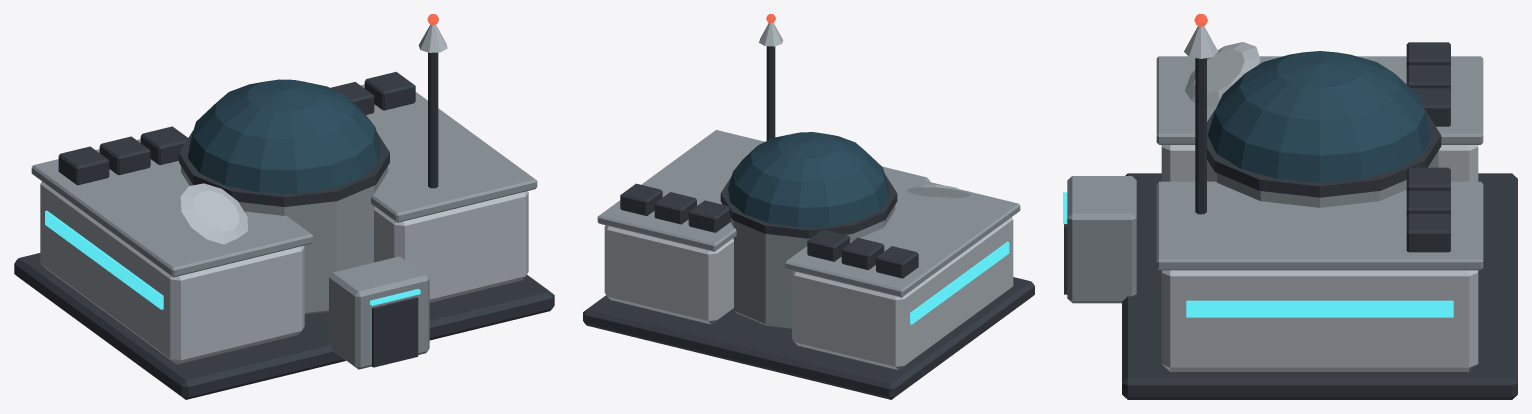
File: exo-lab.glb
3 renders of one model, left to right at view 1: azimuth 30°, elevation 25°; view 2: azimuth 150°, elevation 25°; view 3: azimuth 270°, elevation 25°, orthographic. The views are drawn at different scales.
Parts seen in each view (by area): view 1: body; view 2: body; view 3: body.
Boxes of the visible parts, x1,y1,x2,y2 form: body: (14, 14, 554, 399); body: (583, 14, 1034, 399); body: (1063, 14, 1517, 399).
Bounding box in the file's own units: 10 × 7.54 × 9.19.
